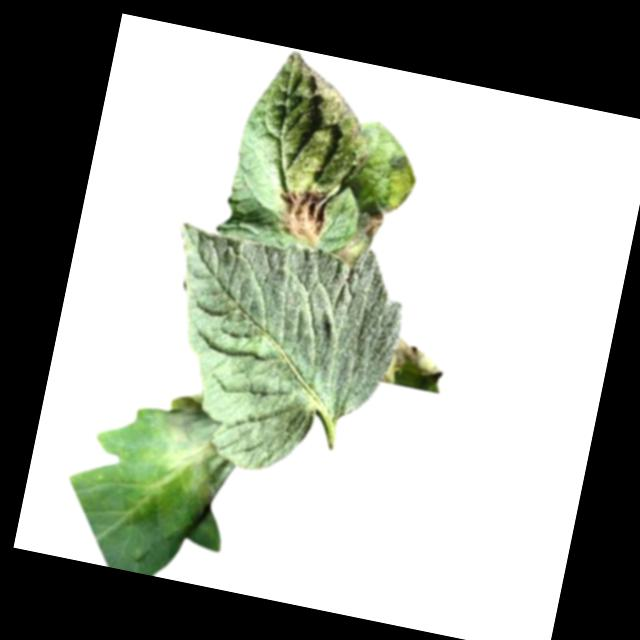Late_blight: (145, 386, 248, 515), (268, 181, 339, 247), (384, 337, 447, 396), (357, 195, 396, 241)
